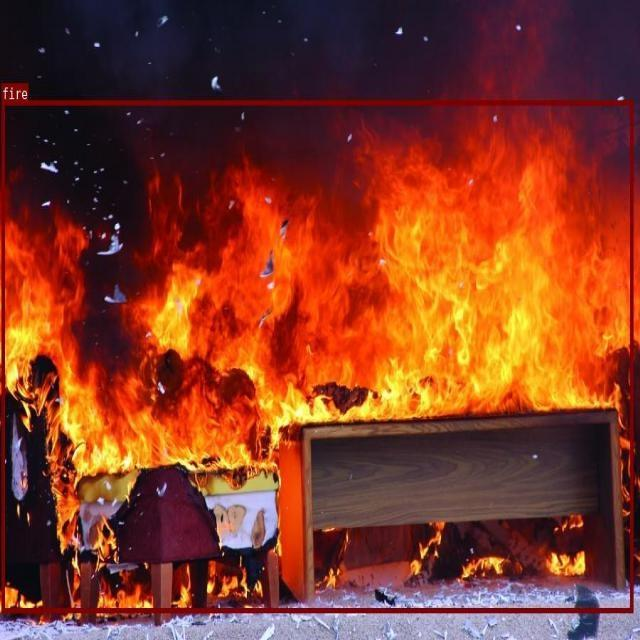fire: (1, 99, 633, 612)
